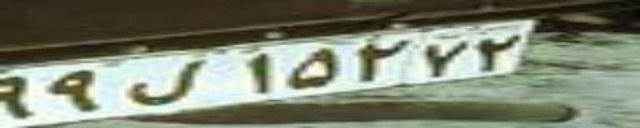1: (246, 53, 270, 94)
2: (358, 40, 410, 83), (478, 33, 519, 72)
5: (286, 46, 338, 89)
7: (424, 40, 466, 79)
9: (47, 70, 97, 113), (0, 74, 32, 119)
lam: (125, 59, 204, 105)
